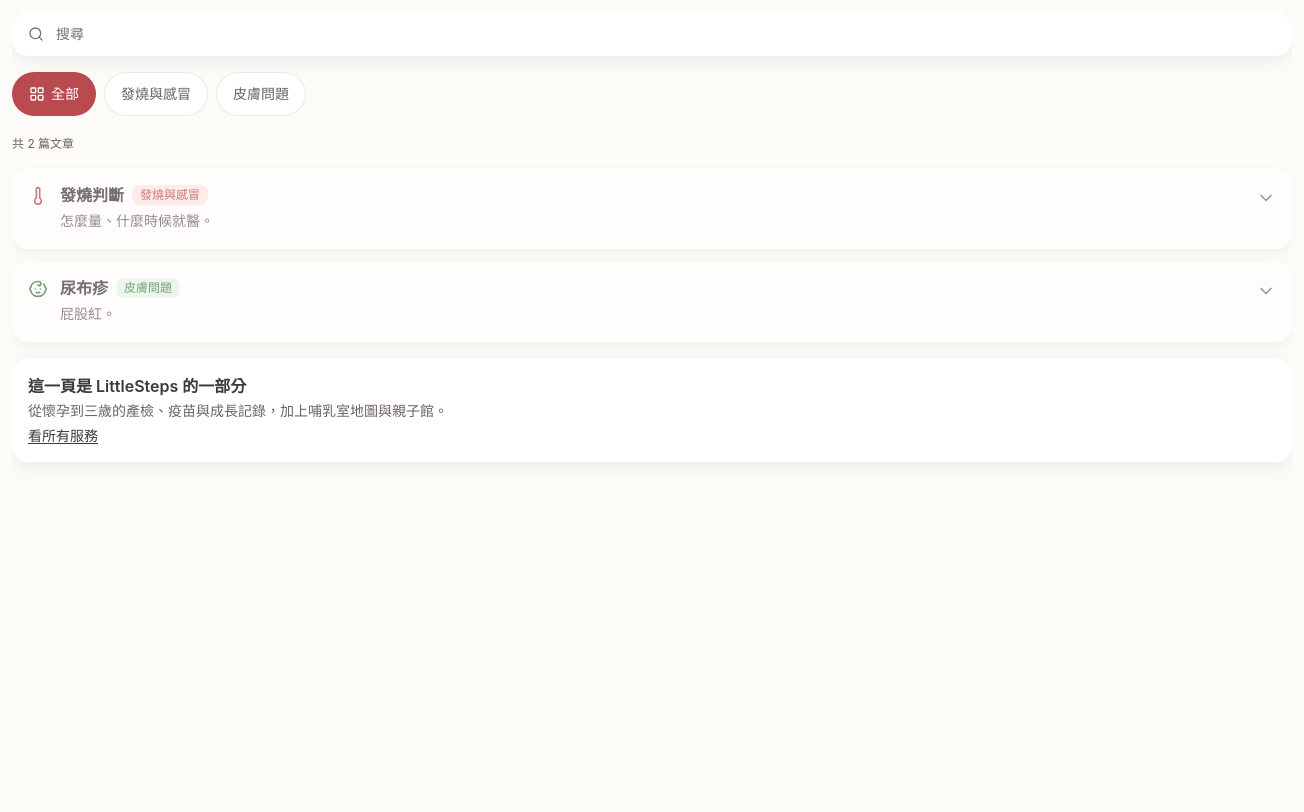
WikiBrowser: an open article › opens a related article in place, without collapsing into a dead end
Step 1. Click the button "發燒判斷" → click(92, 195), box [60,173,124,217]
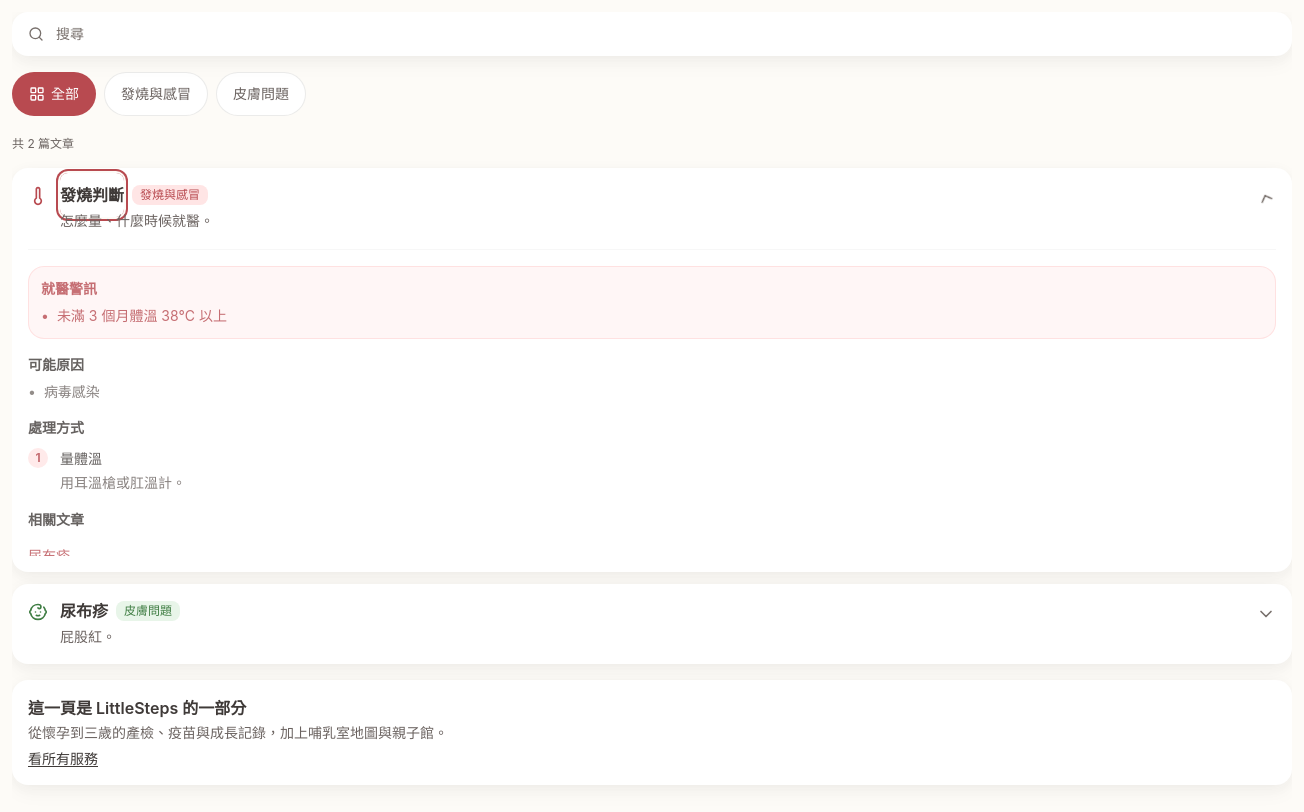
Step 2. Click the button "尿布疹" below "相關文章" → click(49, 556), box [28,534,70,578]
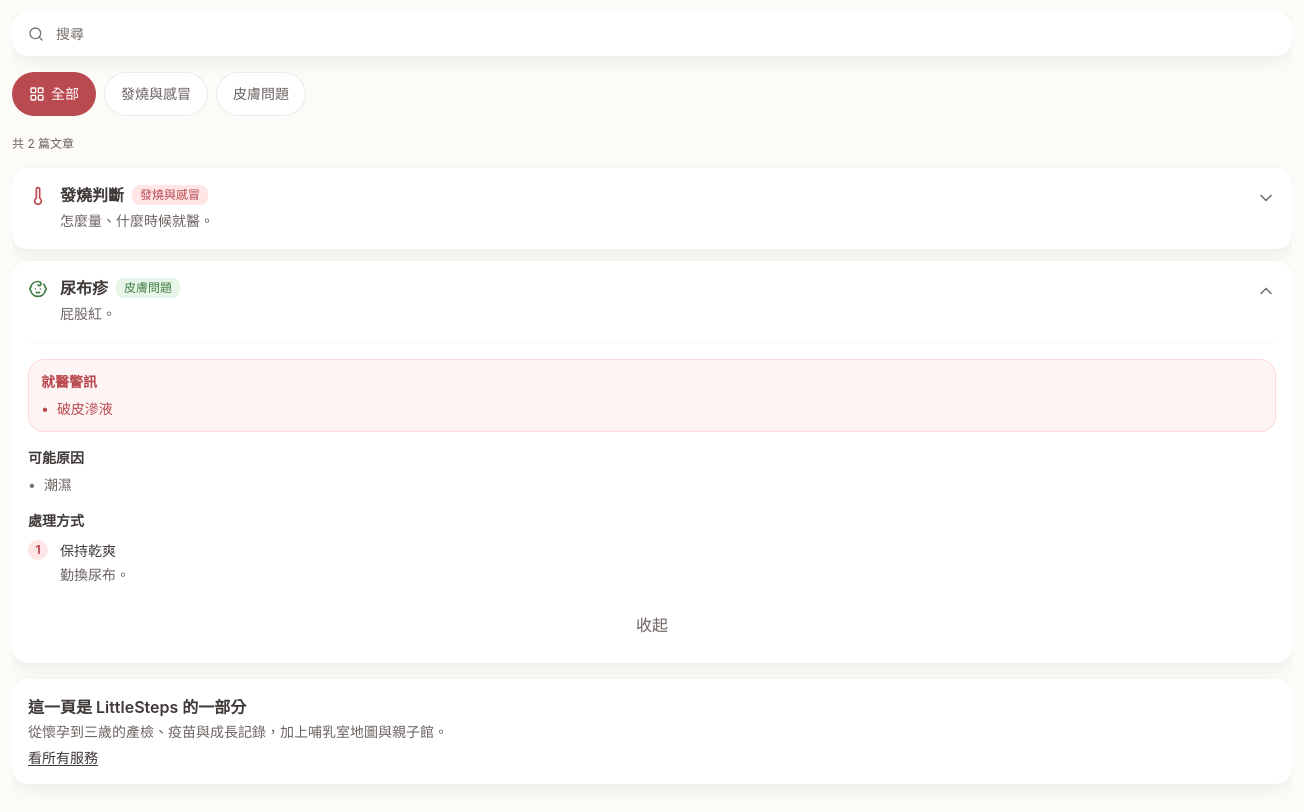
Expected: the button "尿布疹" is expanded, [60,266,108,310]
Expected: the text "破皮滲液" is shown, [57,399,113,419]
